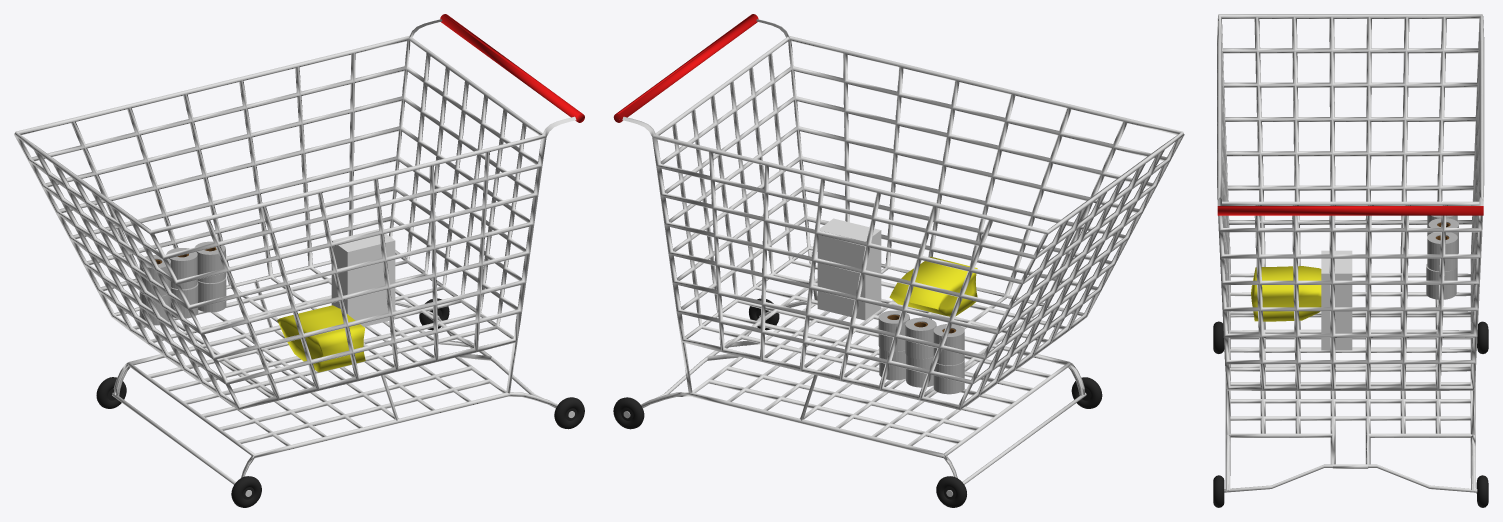
File: GroceryCart.fbx
3 views of the same model, side by side, from view 1: azimuth 30°, elevation 25°; view 2: azimuth 150°, elevation 25°; view 3: azimuth 270°, elevation 25° (orthographic). The views are drawn at different scales.
Parts seen in each view (by area): view 1: Frame, Cube, Cylinder.005, Plane.003; view 2: Frame, Cube, Cylinder.005, Plane.003; view 3: Frame, Plane.003, Cube, Cylinder.005.
Part boxes in pixels (box(x1,y1,x2,y2)): Frame: box(14, 14, 584, 507); Cube: box(331, 229, 395, 326); Cylinder.005: box(139, 241, 226, 325); Plane.003: box(277, 305, 365, 372); Frame: box(613, 14, 1184, 507); Cube: box(817, 218, 881, 320); Cylinder.005: box(878, 310, 964, 394); Plane.003: box(889, 256, 977, 316); Frame: box(1213, 14, 1488, 507); Plane.003: box(1251, 266, 1321, 321); Cube: box(1321, 250, 1352, 350); Cylinder.005: box(1426, 215, 1458, 299).
Size of the model in its own units: 400 by 274 by 225.
